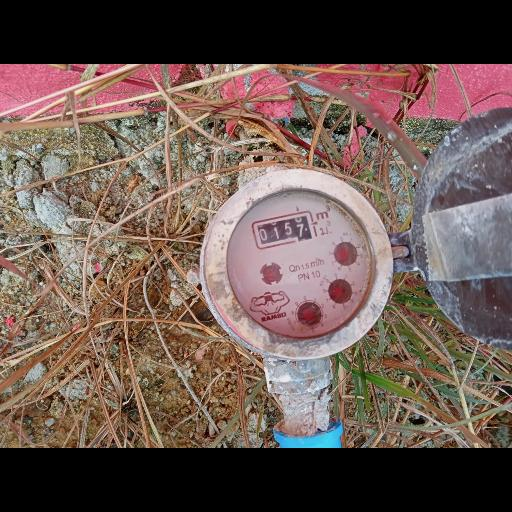0: (256, 223, 273, 245)
1: (269, 220, 286, 242)
5: (281, 217, 297, 239)
7: (292, 215, 312, 242)
border_water_meter_number: (251, 209, 318, 251)
